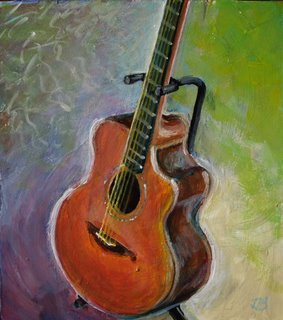guitar: (51, 1, 213, 318)
